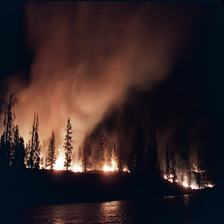fire: (8, 92, 127, 177), (158, 155, 218, 192)
